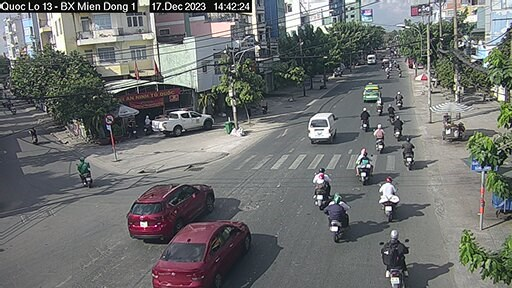car: (113, 160, 214, 238), (153, 205, 247, 288), (147, 109, 214, 138), (301, 111, 341, 147), (362, 84, 384, 98)
motorbike: (367, 223, 415, 288), (324, 195, 349, 239), (375, 176, 399, 215), (312, 168, 333, 205), (352, 154, 377, 179), (371, 125, 393, 151), (399, 138, 417, 167), (359, 106, 375, 131)
